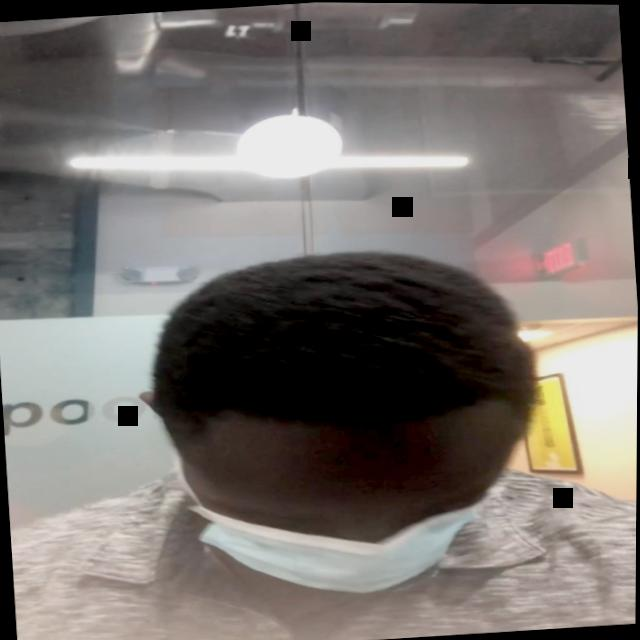Mask: (151, 372, 546, 603)
